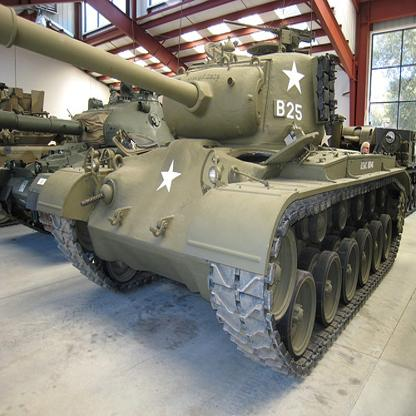Tank: (22, 10, 408, 370)
